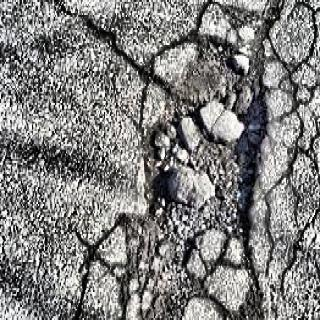alligator-crack: (258, 3, 320, 320), (77, 221, 257, 320)
crack: (134, 37, 272, 241)
